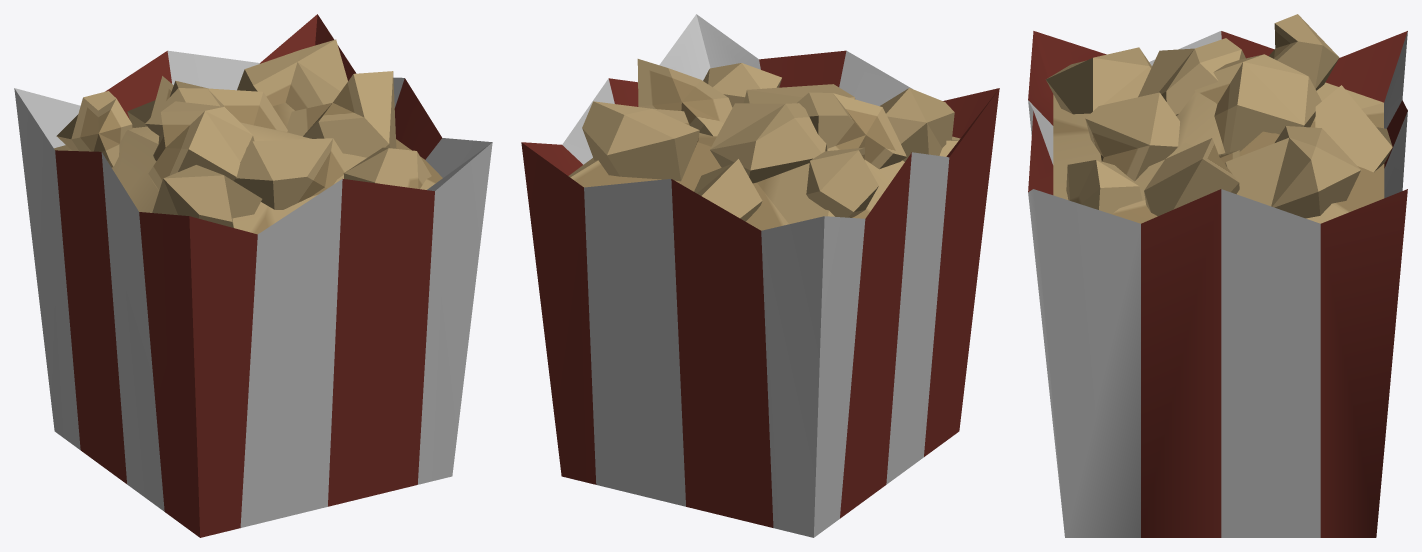
Rendered from SM_Prop_Food_Popcorn_01.fbx.
The picture shows the model from 3 angles, left to right: view 1: azimuth 30°, elevation 25°; view 2: azimuth 150°, elevation 25°; view 3: azimuth 270°, elevation 25°; orthographic projection. The views are drawn at different scales.
Parts seen in each view (by area): view 1: SM_Prop_Food_Popcorn_01; view 2: SM_Prop_Food_Popcorn_01; view 3: SM_Prop_Food_Popcorn_01.
Part boxes in pixels (bbox=[...]): SM_Prop_Food_Popcorn_01: bbox=[14, 14, 492, 537]; SM_Prop_Food_Popcorn_01: bbox=[521, 14, 999, 537]; SM_Prop_Food_Popcorn_01: bbox=[1028, 14, 1407, 537].
Bounding box in the file's own units: 22.11 × 25.55 × 22.43.
